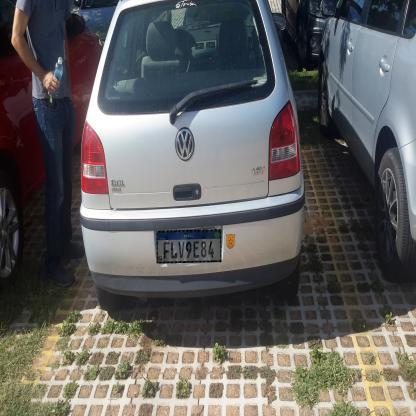PlacaM: (156, 230, 222, 263)
